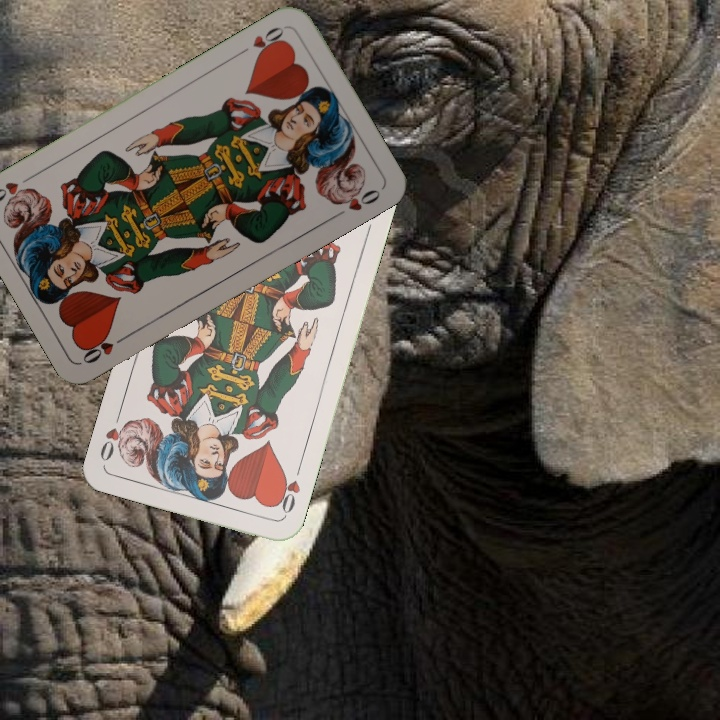HO: (234, 22, 288, 60), (78, 329, 132, 367), (272, 461, 304, 519)
